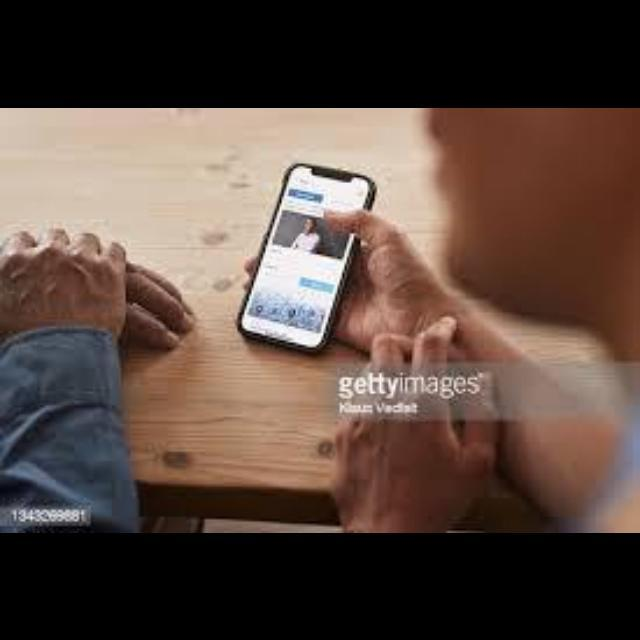Phone: (238, 162, 376, 350)
